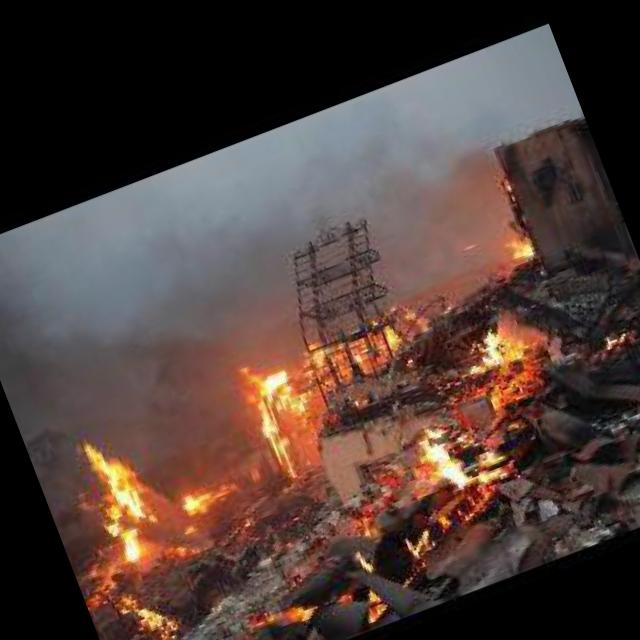fire: (356, 298, 592, 524), (202, 282, 431, 505), (58, 393, 226, 567), (396, 486, 512, 575), (104, 567, 198, 640), (334, 500, 406, 580), (241, 585, 328, 640), (490, 212, 556, 278), (596, 316, 640, 360)
